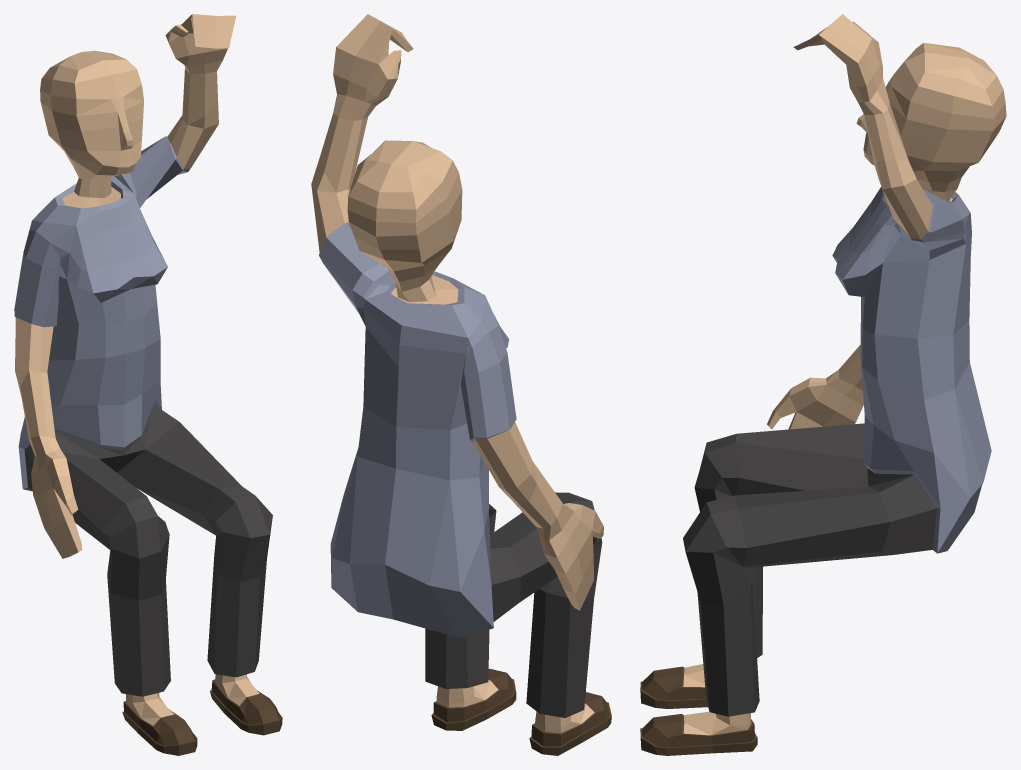
Rendered from Female_Sitting_Cheering.glb.
3 renders of one model, left to right at view 1: azimuth 30°, elevation 25°; view 2: azimuth 150°, elevation 25°; view 3: azimuth 270°, elevation 25°, orthographic. The views are drawn at different scales.
Visible parts, largest first — view 1: Female_Sitting_Cheering; view 2: Female_Sitting_Cheering; view 3: Female_Sitting_Cheering.
Part boxes in pixels (<box>): Female_Sitting_Cheering: <box>14,14,282,755</box>; Female_Sitting_Cheering: <box>311,14,611,755</box>; Female_Sitting_Cheering: <box>640,14,1006,755</box>.
Bounding box in the file's own units: 1.08 × 3.26 × 1.47.
